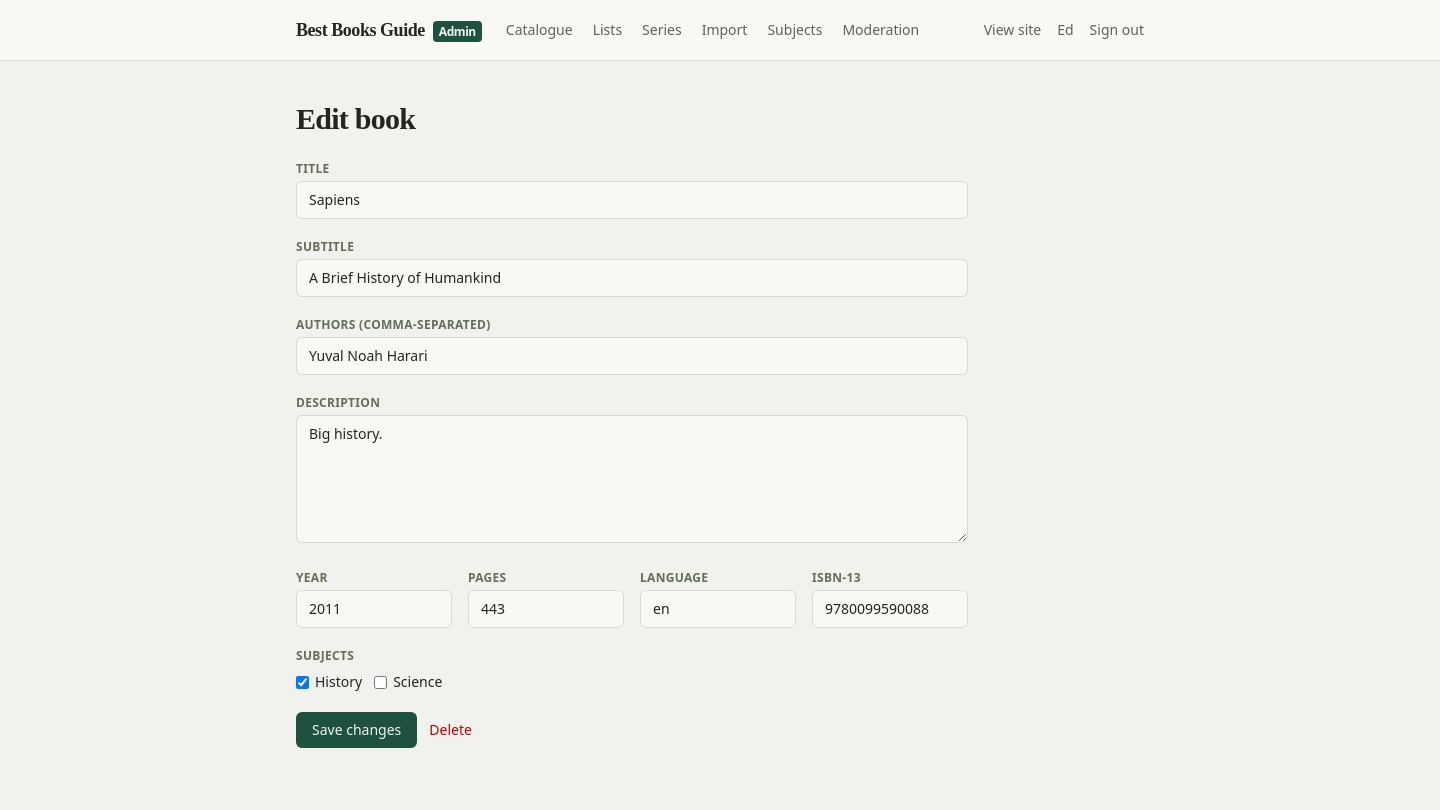
Scenario: BookFormPage — edit › surfaces a failed delete
The image size is (1440, 810).
Expected: the field labelled "Title" holds "Sapiens", [296,181,968,219]
Click the button "Delete". click: (451, 730)
box: [429,720,472,740]
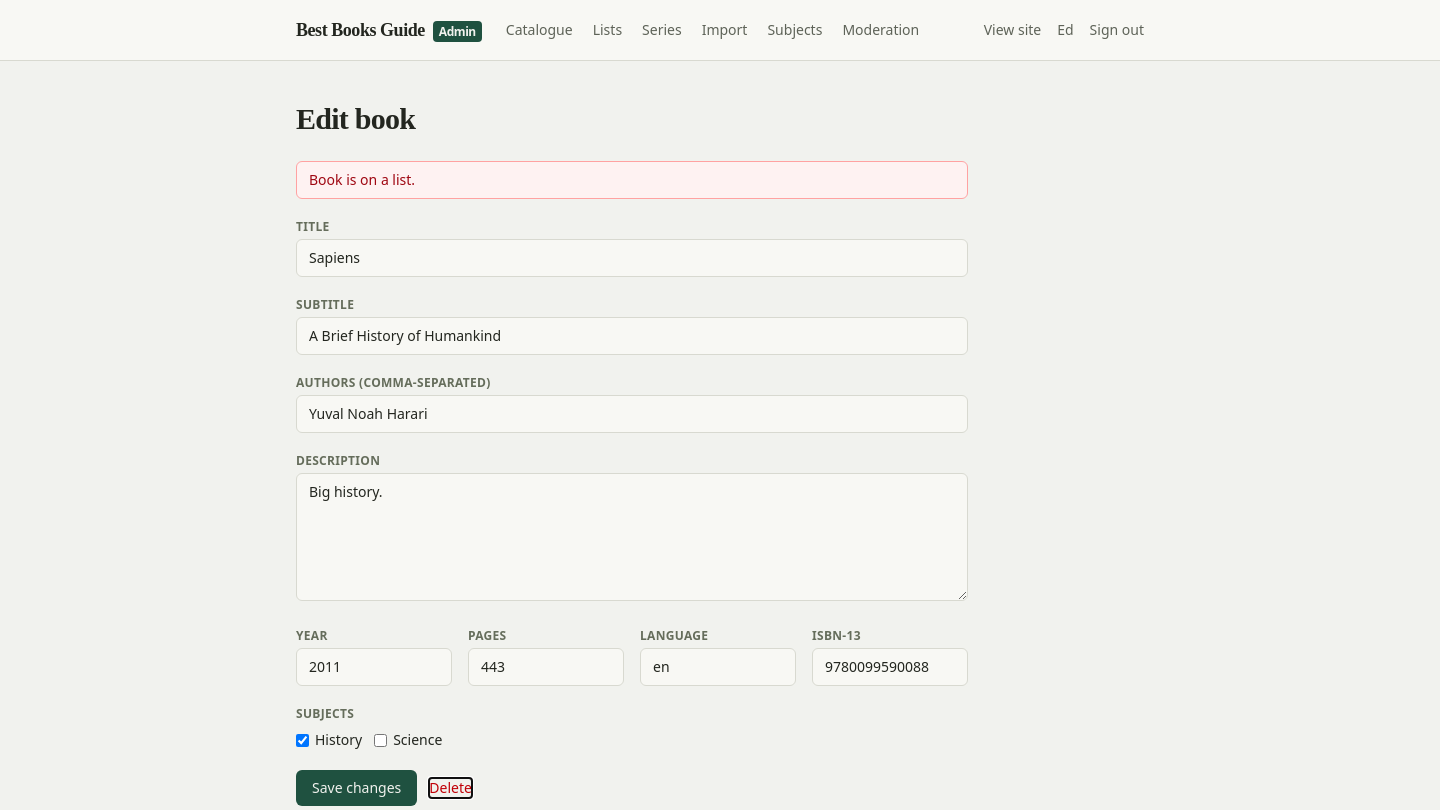
Expected: the text "Book is on a list." is shown, [296,161,968,199]
